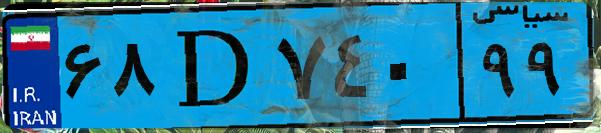0: (385, 28, 445, 110)
4: (330, 28, 385, 110)
6: (57, 26, 110, 100)
7: (270, 28, 330, 110)
8: (110, 28, 158, 98)
9: (475, 38, 525, 113), (525, 38, 570, 115)
D: (158, 12, 270, 120)
